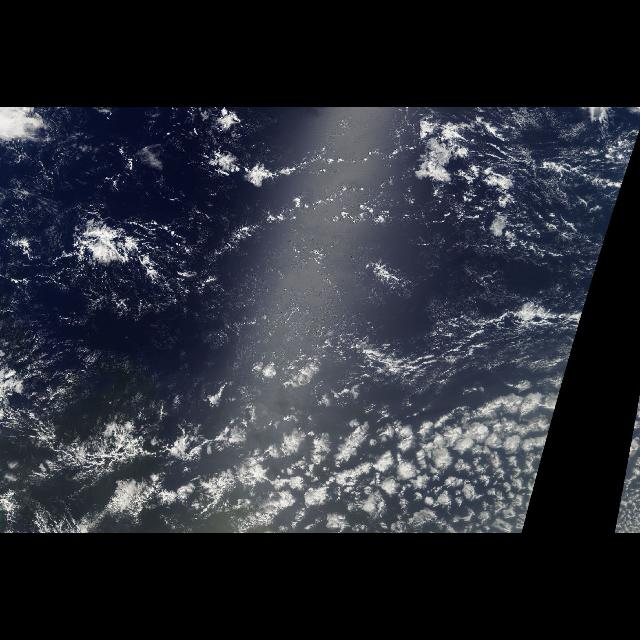Flower: (208, 406, 528, 522)
Gravel: (167, 206, 379, 408), (486, 128, 600, 268)
Sugar: (157, 260, 377, 366)
